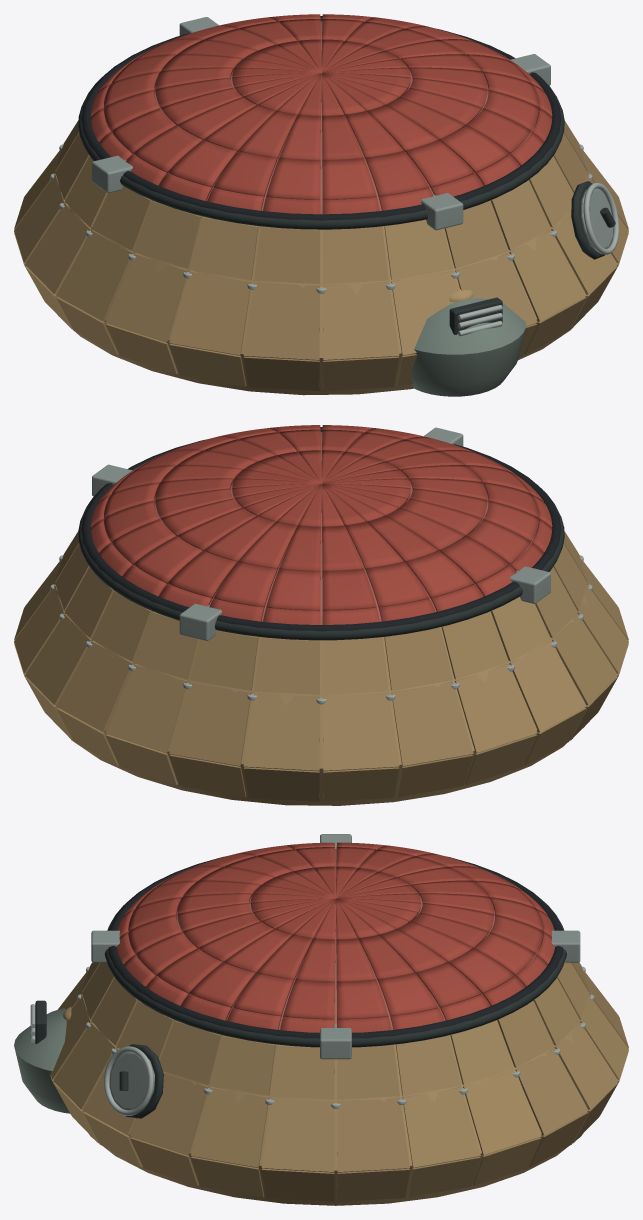
The picture shows the model from 3 angles, top to bottom: view 1: azimuth 30°, elevation 25°; view 2: azimuth 150°, elevation 25°; view 3: azimuth 270°, elevation 25°; orthographic projection. The views are drawn at different scales.
Visible parts, largest first — view 1: Silo bunker armour sectors, Silo lid armour leaves, Bulb shaped chamber, Silo flared bunker, Silo lid seam, Lid pressure seal, Silo lid hinge.003, Silo maintenance hatch lid, Silo lid hinge.002, Silo maintenance hatch rim, Silo armoured lid, Silo maintenance hatch dark gasket (+2 smaller); view 2: Silo bunker armour sectors, Silo lid armour leaves, Silo flared bunker, Silo lid seam, Lid pressure seal, Silo lid hinge.001, Silo lid hinge.002, Silo armoured lid, Silo lid hinge; view 3: Silo bunker armour sectors, Silo lid armour leaves, Silo flared bunker, Silo lid seam, Lid pressure seal, Bulb shaped chamber, Silo maintenance hatch lid, Silo maintenance hatch rim, Silo lid hinge, Silo armoured lid, Silo maintenance hatch dark gasket, Silo lid hinge.001 (+1 smaller).
Part boxes in pixels (<box>): Silo bunker armour sectors: <box>14,120,628,390</box>; Silo lid armour leaves: <box>90,14,552,214</box>; Bulb shaped chamber: <box>410,298,526,396</box>; Silo flared bunker: <box>53,159,588,395</box>; Silo lid seam: <box>81,16,561,220</box>; Lid pressure seal: <box>78,74,564,229</box>; Silo lid hinge.003: <box>421,191,463,230</box>; Silo maintenance hatch lid: <box>580,188,613,252</box>; Silo lid hinge.002: <box>92,155,132,193</box>; Silo maintenance hatch rim: <box>583,182,618,254</box>; Silo armoured lid: <box>107,21,535,214</box>; Silo maintenance hatch dark gasket: <box>571,181,604,259</box>; Silo bunker armour sectors: <box>14,531,628,801</box>; Silo lid armour leaves: <box>90,425,552,624</box>; Silo flared bunker: <box>54,569,589,805</box>; Silo lid seam: <box>81,427,561,631</box>; Lid pressure seal: <box>78,485,564,640</box>; Silo lid hinge.001: <box>179,602,221,640</box>; Silo lid hinge.002: <box>510,566,550,603</box>; Silo armoured lid: <box>107,432,535,624</box>; Silo lid hinge: <box>92,464,132,496</box>; Silo bunker armour sectors: <box>50,962,628,1201</box>; Silo lid armour leaves: <box>116,842,554,1032</box>; Silo flared bunker: <box>82,975,588,1205</box>; Silo lid seam: <box>108,856,563,1038</box>; Lid pressure seal: <box>104,897,566,1047</box>; Bulb shaped chamber: <box>14,1008,69,1113</box>; Silo maintenance hatch lid: <box>109,1052,154,1110</box>; Silo maintenance hatch rim: <box>104,1046,153,1115</box>; Silo lid hinge: <box>320,1023,351,1059</box>; Silo armoured lid: <box>131,849,539,1029</box>; Silo maintenance hatch dark gasket: <box>111,1044,163,1118</box>; Silo lid hinge.001: <box>551,930,580,962</box>.
Size of the model in its own units: 2.39 by 0.876 by 2.5.
